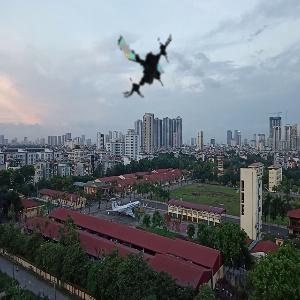drone: (103, 18, 186, 101)
